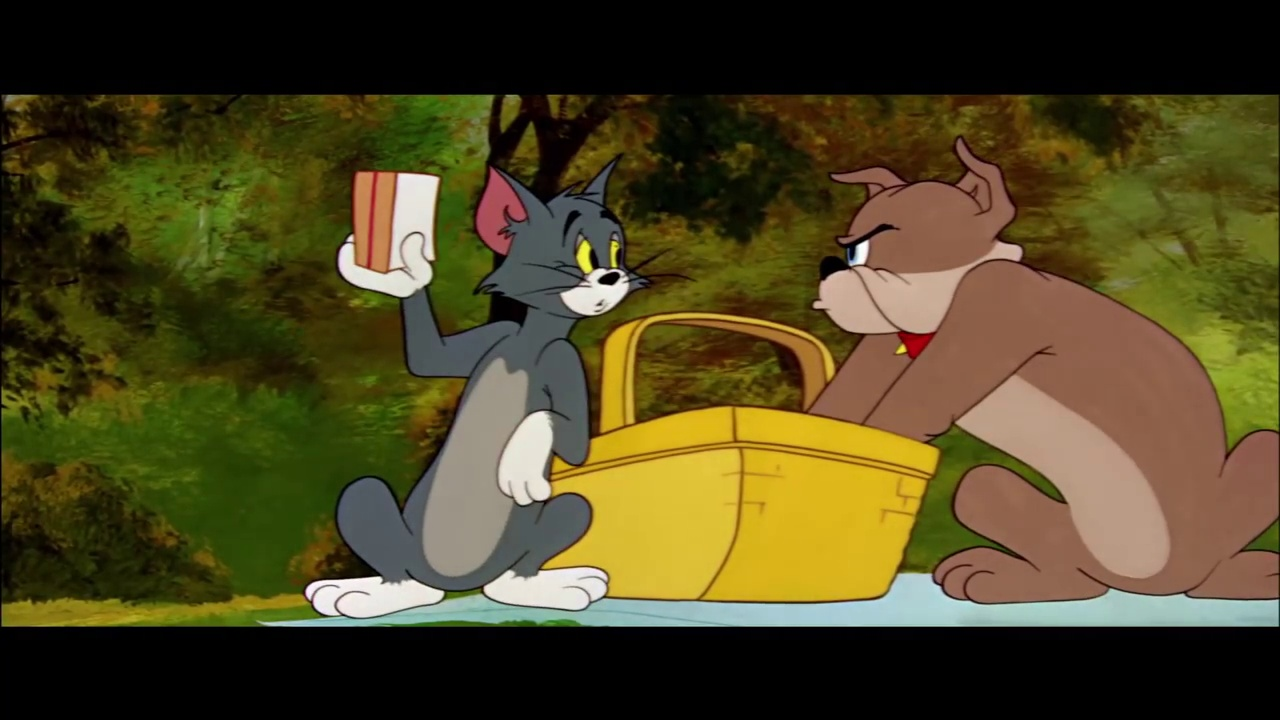spike: (810, 135, 1030, 365)
tom: (470, 153, 653, 332)
